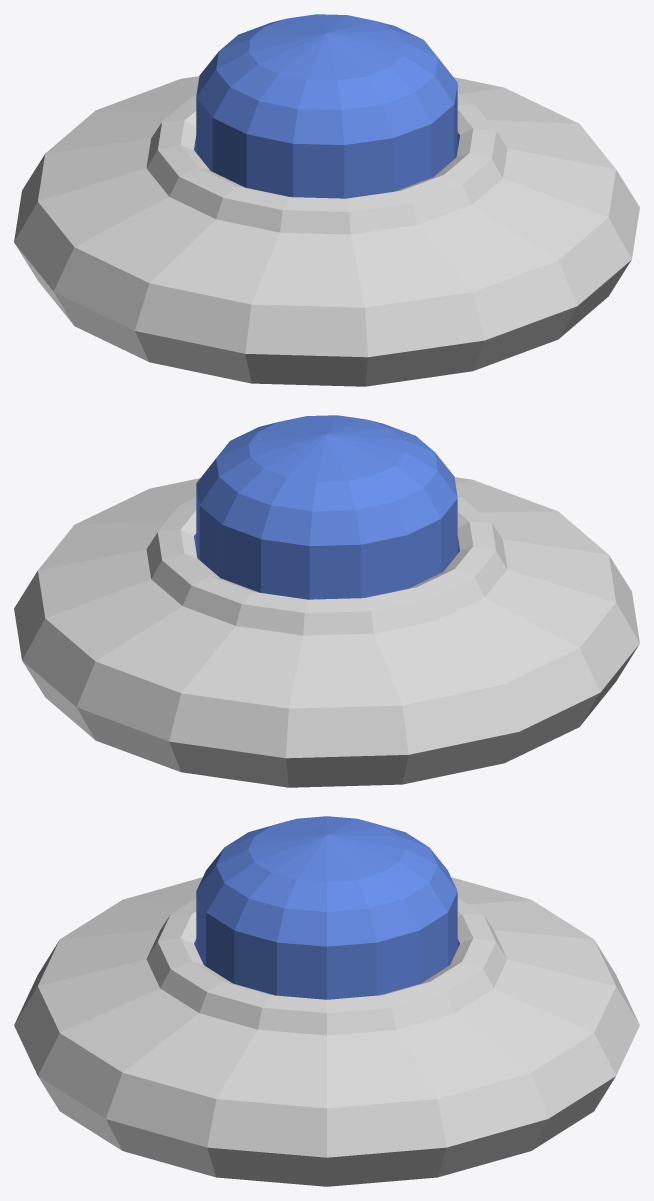
The model's file is ufotest.gltf.
3 renders of one model, top to bottom at view 1: azimuth 30°, elevation 25°; view 2: azimuth 150°, elevation 25°; view 3: azimuth 270°, elevation 25°, orthographic.
Parts seen in each view (by area): view 1: Sphere; view 2: Sphere; view 3: Sphere.
Part boxes in pixels (bbox=[...]): Sphere: bbox=[14, 14, 639, 386]; Sphere: bbox=[14, 415, 639, 787]; Sphere: bbox=[14, 816, 639, 1186].
Bounding box in the file's own units: 2 × 1.01 × 2.
